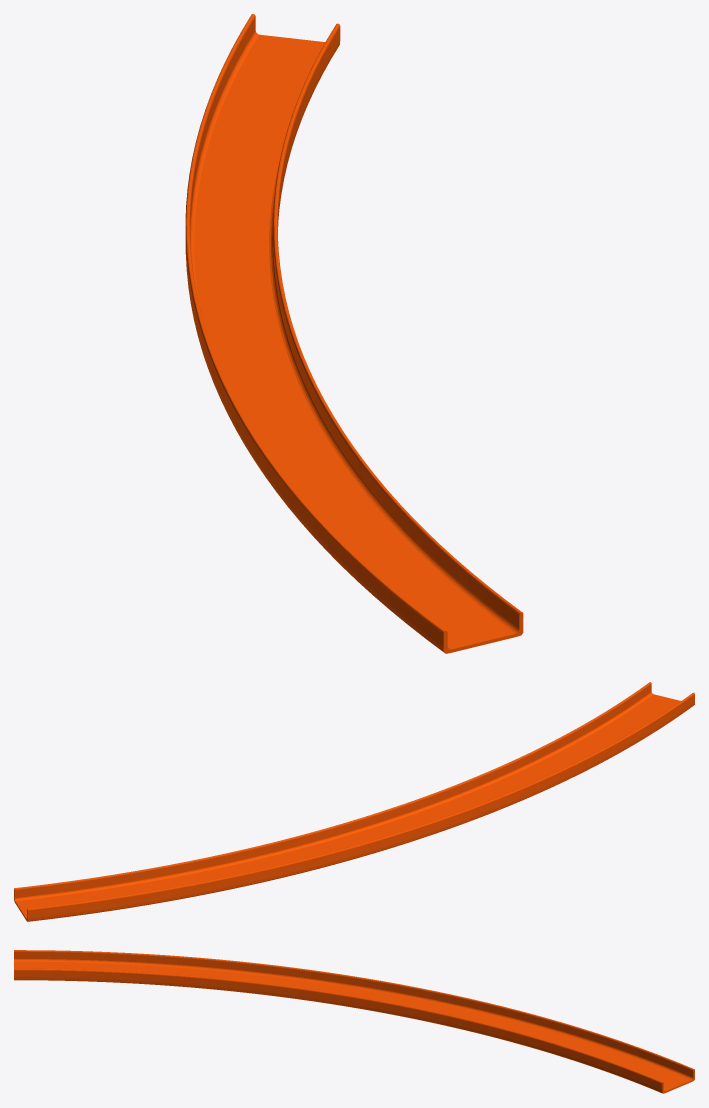
File: Curva longa 45.FBX
3 views of the same model, one above another, from view 1: azimuth 30°, elevation 25°; view 2: azimuth 150°, elevation 25°; view 3: azimuth 270°, elevation 25° (orthographic). The views are drawn at different scales.
Visible parts, largest first — view 1: Curva longa 45; view 2: Curva longa 45; view 3: Curva longa 45.
Part boxes in pixels (left/top/right/bottom): Curva longa 45: left=185, top=14, right=523, bottom=653; Curva longa 45: left=14, top=682, right=694, bottom=921; Curva longa 45: left=14, top=950, right=694, bottom=1093.
Bounding box in the file's own units: 1705 × 69.33 × 3690.
